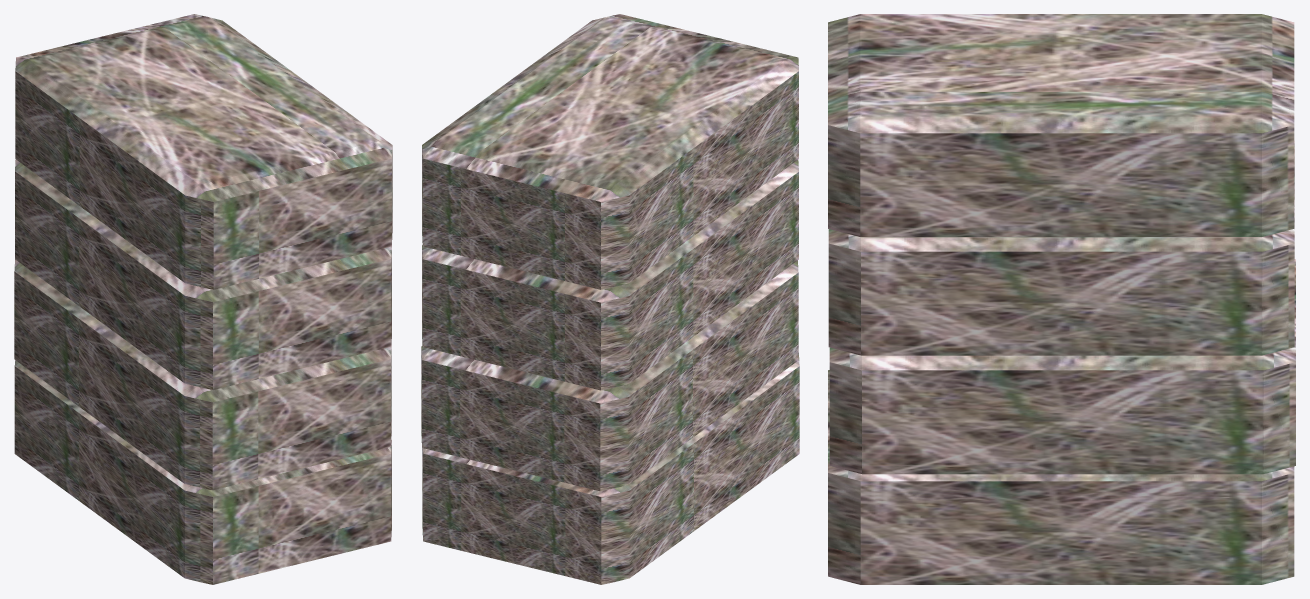
The model's file is hayWithtexture2.glb.
3 renders of one model, left to right at view 1: azimuth 30°, elevation 25°; view 2: azimuth 150°, elevation 25°; view 3: azimuth 270°, elevation 25°, orthographic. The views are drawn at different scales.
Parts seen in each view (by area): view 1: Cube.003, Cube.001, Cube.002, Cube; view 2: Cube.003, Cube.001, Cube.002, Cube; view 3: Cube.003, Cube.001, Cube.002, Cube.
Part boxes in pixels (x1,y1,x2,y2): Cube.003: (15, 14, 392, 289); Cube.001: (14, 259, 391, 490); Cube.002: (15, 159, 391, 389); Cube: (14, 360, 391, 584); Cube.003: (422, 14, 798, 289); Cube.001: (421, 260, 798, 491); Cube.002: (422, 160, 798, 390); Cube: (422, 353, 799, 584); Cube.003: (828, 14, 1294, 237); Cube.001: (829, 259, 1295, 474); Cube.002: (828, 141, 1294, 355); Cube: (828, 370, 1294, 584).
Bounding box in the file's own units: 0.8904 × 1.63 × 1.47.
Materials: 1 (1 with a texture image).
